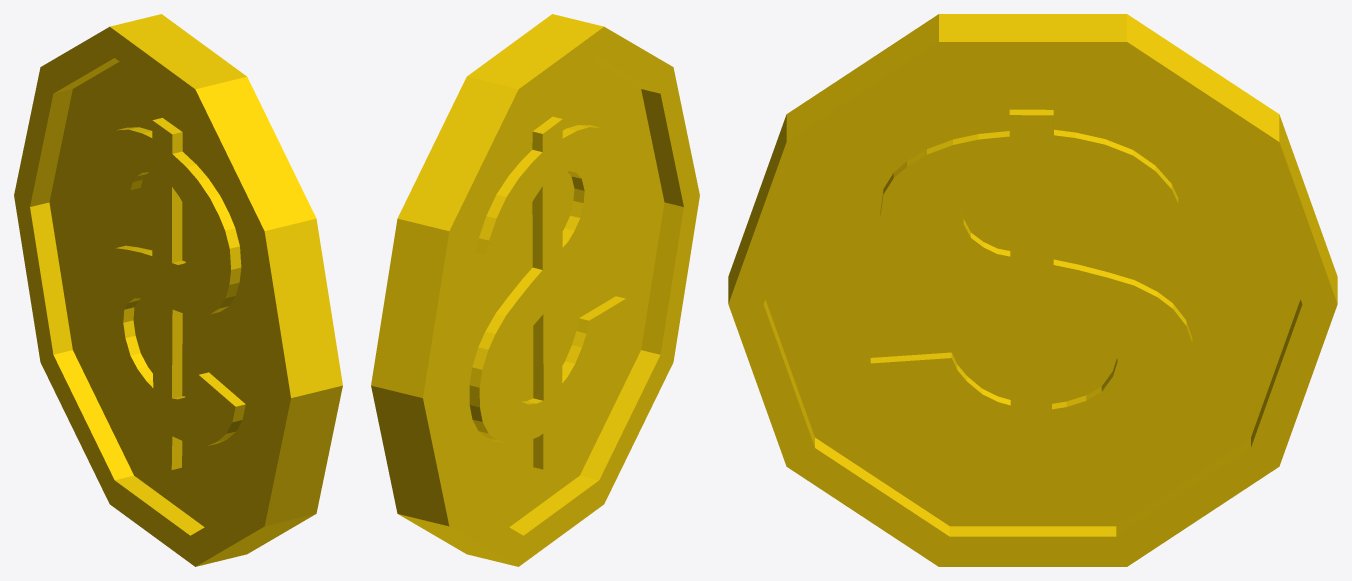
Rendered from golden.glb.
The picture shows the model from 3 angles, left to right: view 1: azimuth 30°, elevation 25°; view 2: azimuth 150°, elevation 25°; view 3: azimuth 270°, elevation 25°; orthographic projection. The views are drawn at different scales.
Visible parts, largest first — view 1: Circle, Cube, Circle.001; view 2: Circle, Cube, Circle.001; view 3: Circle.001, Cube, Circle.
Part boxes in pixels (box(x1,y1,x2,y2)): Circle: box(14, 20, 316, 566); Cube: box(89, 118, 245, 469); Circle.001: box(136, 14, 342, 560); Circle: box(397, 20, 699, 566); Cube: box(469, 116, 625, 469); Circle.001: box(371, 14, 577, 560); Circle.001: box(728, 28, 1337, 566); Cube: box(870, 109, 1192, 484); Circle: box(728, 14, 1337, 289).
Bounding box in the file's own units: 0.4045 × 3.56 × 3.74.
